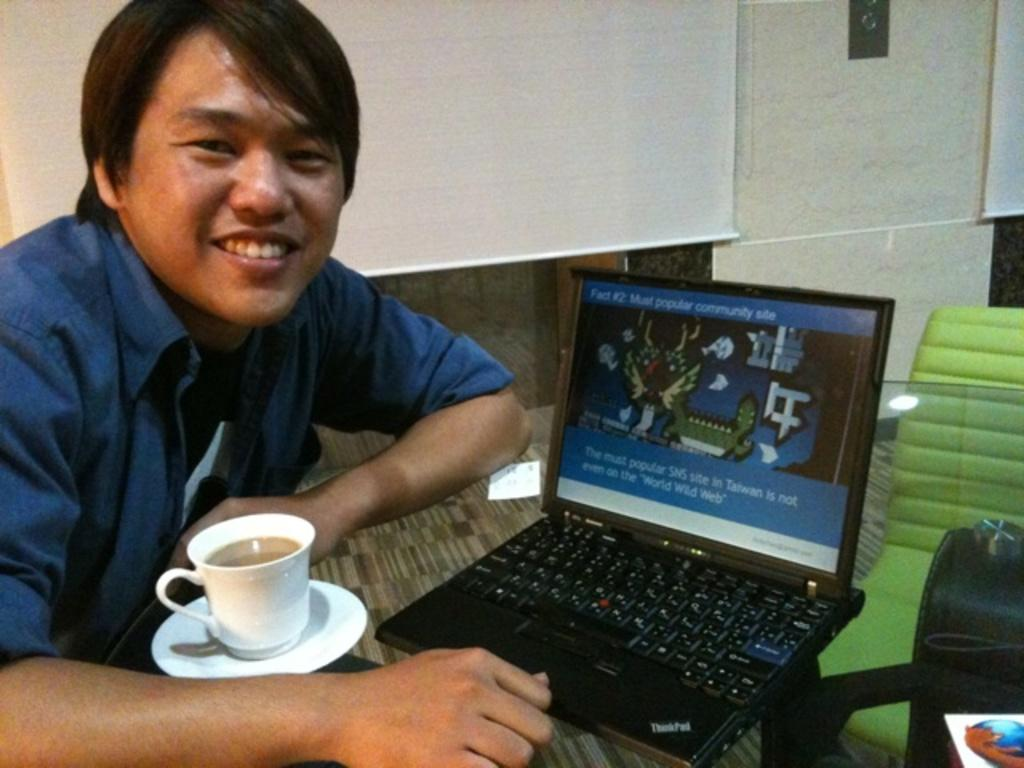no_helmet: (51, 100, 390, 359)
none: (0, 247, 514, 585)
